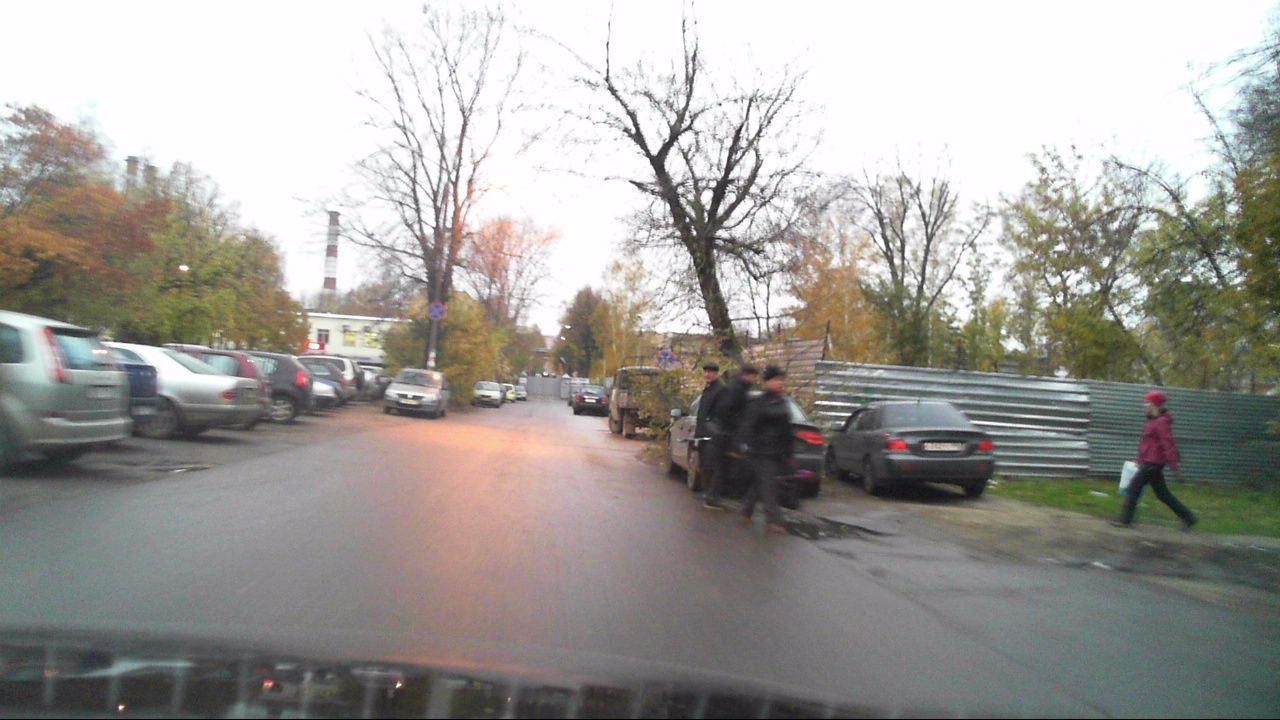No Parking: (424, 302, 444, 323)
